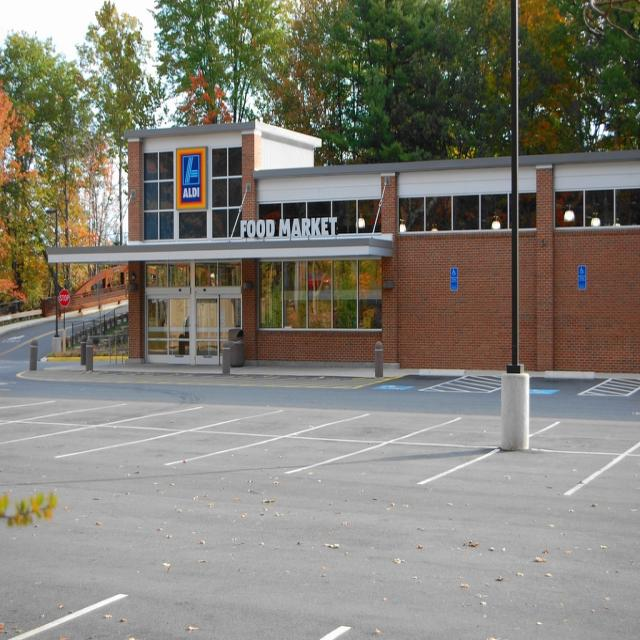aldi: (177, 150, 207, 212)
